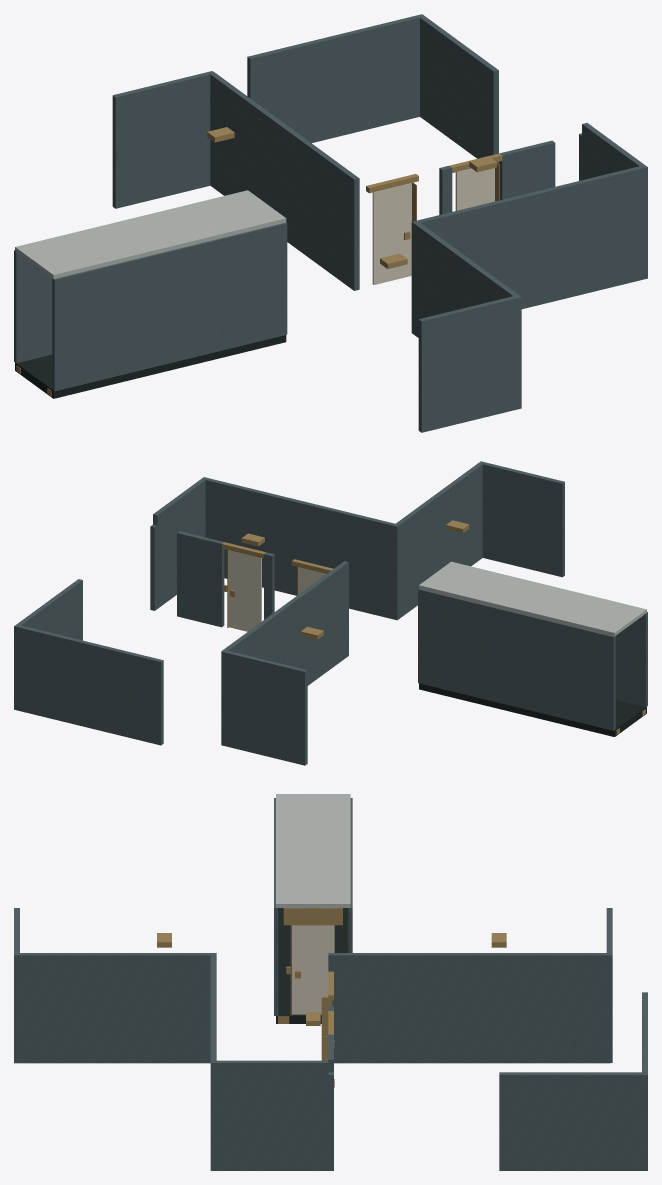
The model's file is D04_PORT_CENTRAL_COMMONS_REAR_ROUTE_r006.glb.
3 renders of one model, top to bottom at view 1: azimuth 30°, elevation 25°; view 2: azimuth 150°, elevation 25°; view 3: azimuth 270°, elevation 25°, orthographic. The views are drawn at different scales.
Parts seen in each view (by area): view 1: PCR_BridgeWall1, PCR_FrontGuestBoundary, PCR_RearSouthBoundary, PCR_ServiceBackSeal, PCR_RearNorthEnd, PCR_RearSouthEnd, PCR_BridgeRoof, PCR_ServiceEastBackSeal, PCR_RearQuietBoundary, PCR_BridgeWall-1, PCR_G1_D04PC_CourtSouth_Leaf, PCR_BridgeFloor (+4 smaller); view 2: PCR_BridgeWall-1, PCR_FrontGuestBoundary, PCR_ServiceBackSeal, PCR_RearSouthEnd, PCR_RearNorthEnd, PCR_RearQuietBoundary, PCR_RearSouthBoundary, PCR_BridgeRoof, PCR_StockFrontFillEast, PCR_EastGuestBoundary, PCR_BridgeWall1, PCR_G2_D04PC_CourtSouth_Leaf (+4 smaller); view 3: PCR_RearSouthBoundary, PCR_RearQuietBoundary, PCR_ServiceEastBackSeal, PCR_EastGuestBoundary, PCR_BridgeRoof, PCR_G0_D04PC_CourtSouth_Leaf, PCR_BridgeFloor, PCR_FrontGuestBoundary, PCR_RearPortalHeader, PCR_ServiceBackSeal, PCR_BridgeWall1, PCR_RearNorthEnd (+3 smaller).
Boxes of the visible parts, <box> form: PCR_BridgeWall1: <box>52,222,287,391</box>; PCR_FrontGuestBoundary: <box>411,166,647,332</box>; PCR_RearSouthBoundary: <box>209,71,359,290</box>; PCR_ServiceBackSeal: <box>247,14,424,143</box>; PCR_RearNorthEnd: <box>418,296,521,432</box>; PCR_RearSouthEnd: <box>112,71,214,208</box>; PCR_BridgeRoof: <box>15,190,286,279</box>; PCR_ServiceEastBackSeal: <box>417,14,498,163</box>; PCR_RearQuietBoundary: <box>411,221,520,337</box>; PCR_BridgeWall-1: <box>14,250,52,363</box>; PCR_G1_D04PC_CourtSouth_Leaf: <box>372,183,411,284</box>; PCR_BridgeFloor: <box>15,335,286,398</box>; PCR_BridgeWall-1: <box>418,589,615,730</box>; PCR_FrontGuestBoundary: <box>202,477,399,619</box>; PCR_ServiceBackSeal: <box>14,624,163,745</box>; PCR_RearSouthEnd: <box>221,651,307,765</box>; PCR_RearNorthEnd: <box>480,461,564,577</box>; PCR_RearQuietBoundary: <box>393,462,483,620</box>; PCR_RearSouthBoundary: <box>222,561,348,685</box>; PCR_BridgeRoof: <box>419,561,646,636</box>; PCR_StockFrontFillEast: <box>177,531,224,627</box>; PCR_EastGuestBoundary: <box>153,477,207,608</box>; PCR_BridgeWall1: <box>615,612,647,706</box>; PCR_G2_D04PC_CourtSouth_Leaf: <box>228,550,261,631</box>; PCR_RearSouthBoundary: <box>328,953,610,1063</box>; PCR_RearQuietBoundary: <box>16,953,215,1063</box>; PCR_ServiceEastBackSeal: <box>499,1072,647,1170</box>; PCR_EastGuestBoundary: <box>210,1060,328,1170</box>; PCR_BridgeRoof: <box>276,794,350,907</box>; PCR_G0_D04PC_CourtSouth_Leaf: <box>292,925,334,1014</box>; PCR_BridgeFloor: <box>276,908,348,1023</box>; PCR_FrontGuestBoundary: <box>210,953,216,1170</box>; PCR_RearPortalHeader: <box>283,908,342,925</box>; PCR_ServiceBackSeal: <box>642,992,647,1170</box>; PCR_BridgeWall1: <box>274,798,278,1015</box>; PCR_RearNorthEnd: <box>14,908,19,1063</box>.
Size of the model in its own units: 16.88 by 3.56 by 17.05.
Materials: 7 (7 with a texture image).
